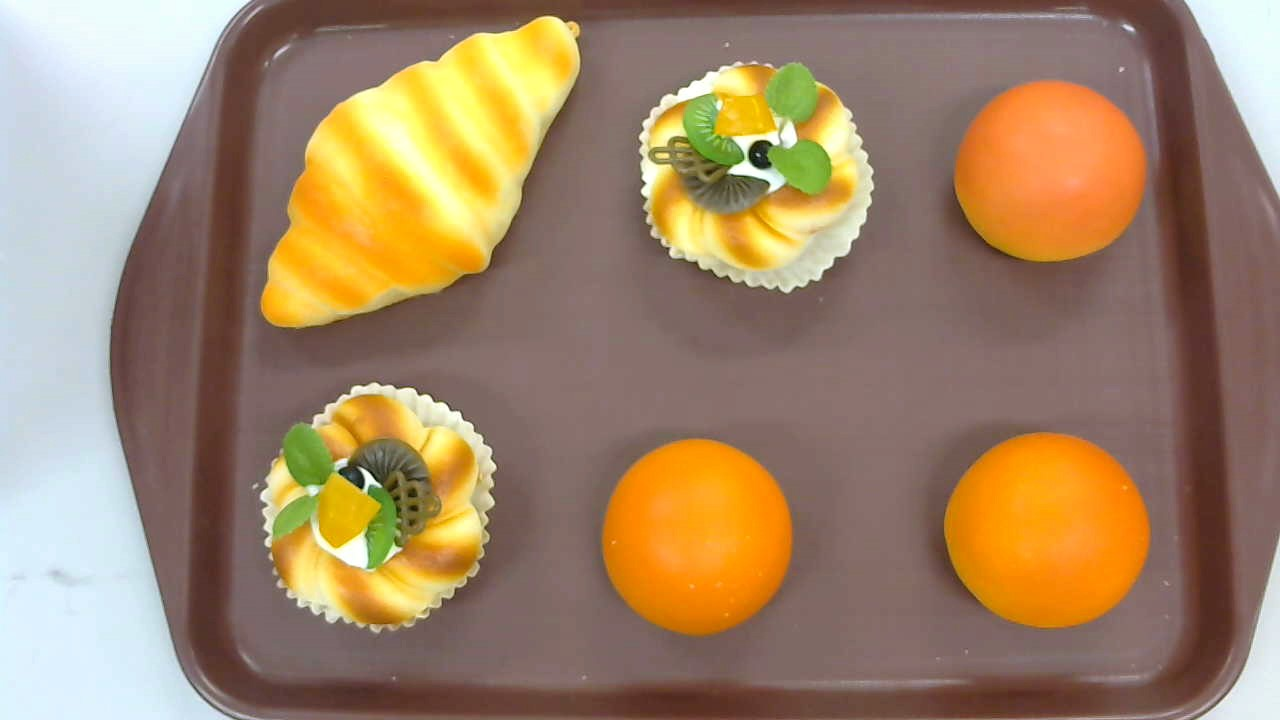bun: (945, 431, 1152, 629), (602, 440, 791, 633), (952, 79, 1146, 263)
croissant: (259, 15, 581, 329)
fruit tart: (259, 381, 498, 634), (639, 61, 877, 295)
